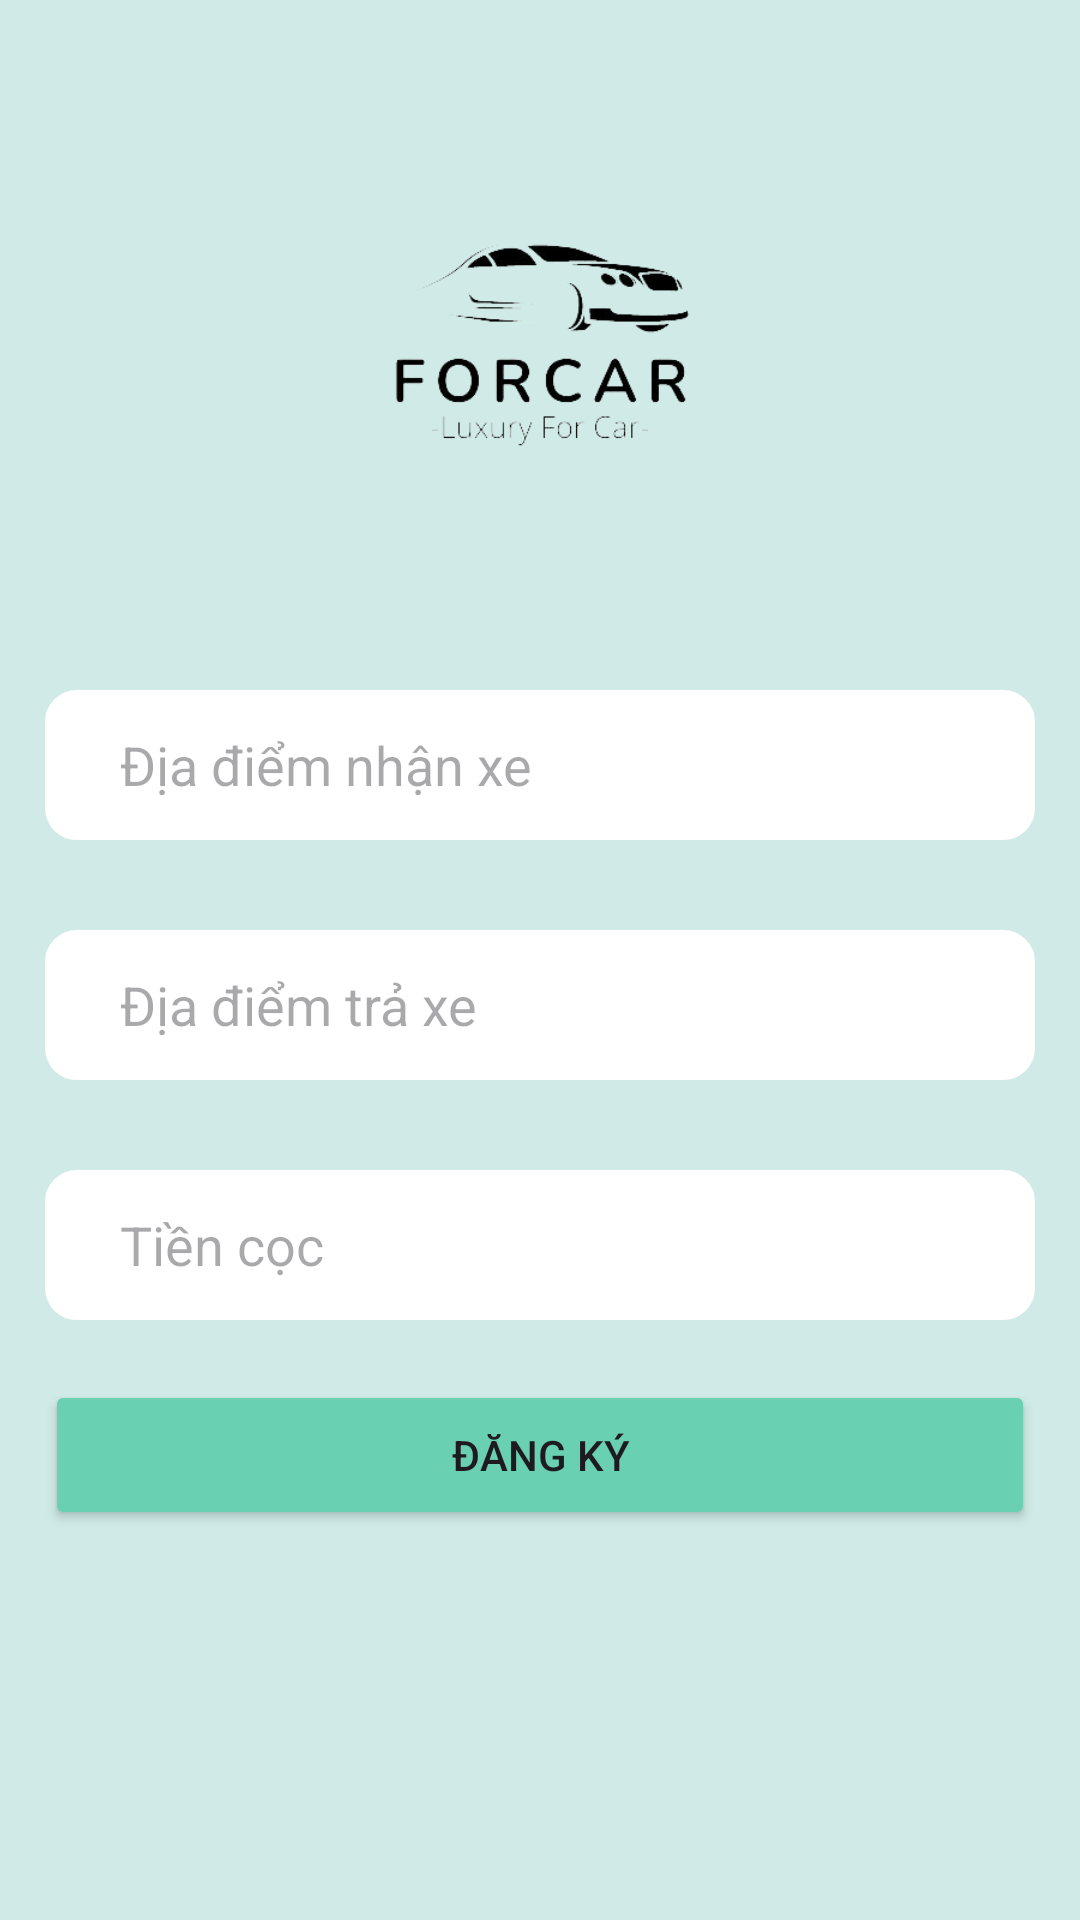

Icons on this 1080 × 1920 Android screen, each with its box as [x1, y1, x2, y2]:
newloho: [396, 245, 689, 446]
